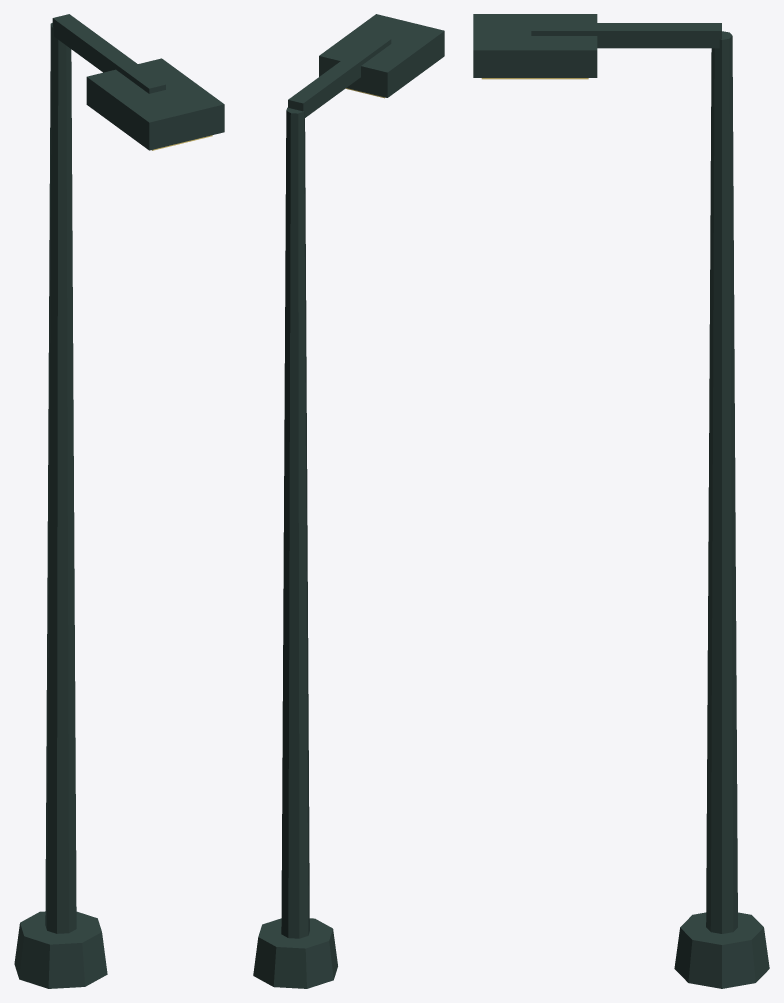
Rendered from StreetLamp.obj.
The picture shows the model from 3 angles, left to right: view 1: azimuth 30°, elevation 25°; view 2: azimuth 150°, elevation 25°; view 3: azimuth 270°, elevation 25°; orthographic projection. The views are drawn at different scales.
Visible parts, largest first — view 1: StreetLamp; view 2: StreetLamp; view 3: StreetLamp.
Boxes of the visible parts, left/top/right/bottom form: StreetLamp: left=14, top=14, right=224, bottom=988; StreetLamp: left=253, top=14, right=444, bottom=988; StreetLamp: left=473, top=14, right=769, bottom=988.
Size of the model in its own units: 0.5 by 5.45 by 1.55.
